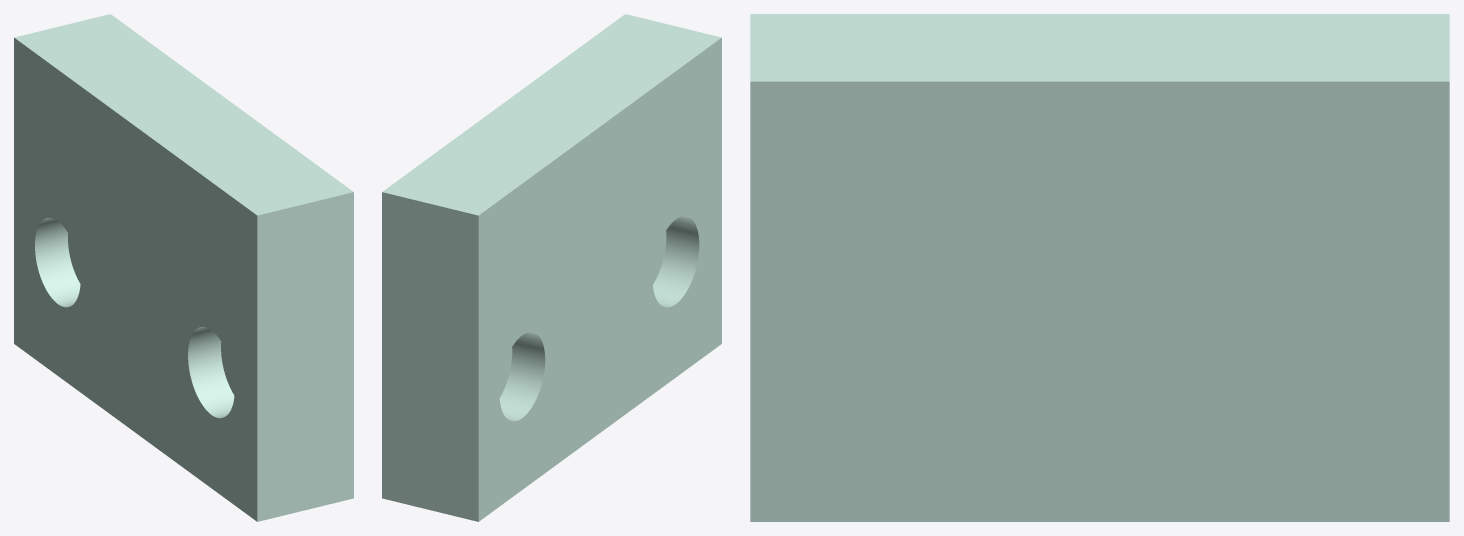
3 views of the same model, side by side, from view 1: azimuth 30°, elevation 25°; view 2: azimuth 150°, elevation 25°; view 3: azimuth 270°, elevation 25° (orthographic). The views are drawn at different scales.
Parts seen in each view (by area): view 1: Renderer Node; view 2: Renderer Node; view 3: Renderer Node.
Boxes of the visible parts, x1,y1,x2,y2 form: Renderer Node: [14, 14, 353, 521]; Renderer Node: [382, 14, 721, 521]; Renderer Node: [750, 14, 1449, 521].
Bounding box in the file's own units: 0.3203 × 0.9715 × 1.4.
